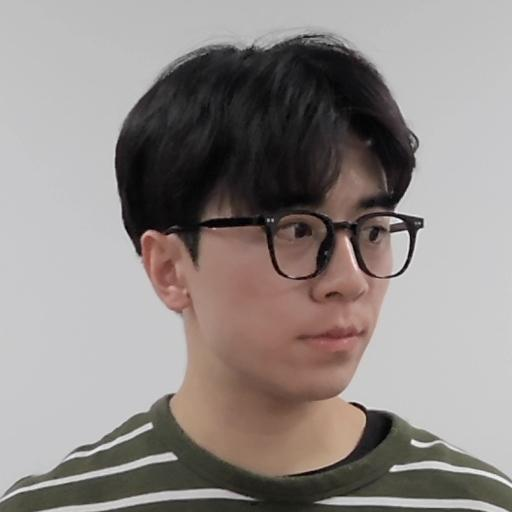no_glasses: (114, 31, 433, 389)
